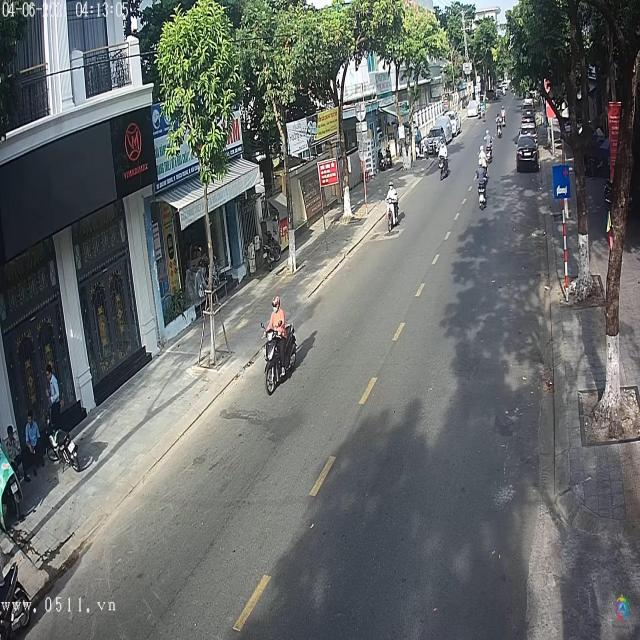car: (516, 138, 540, 172)
motorcycle: (264, 329, 298, 397), (385, 195, 403, 232), (476, 173, 488, 210), (439, 153, 450, 181)
